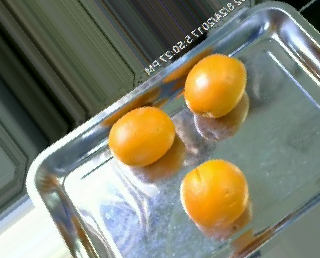Orange: (179, 158, 248, 227), (185, 52, 247, 117), (109, 106, 175, 167)
